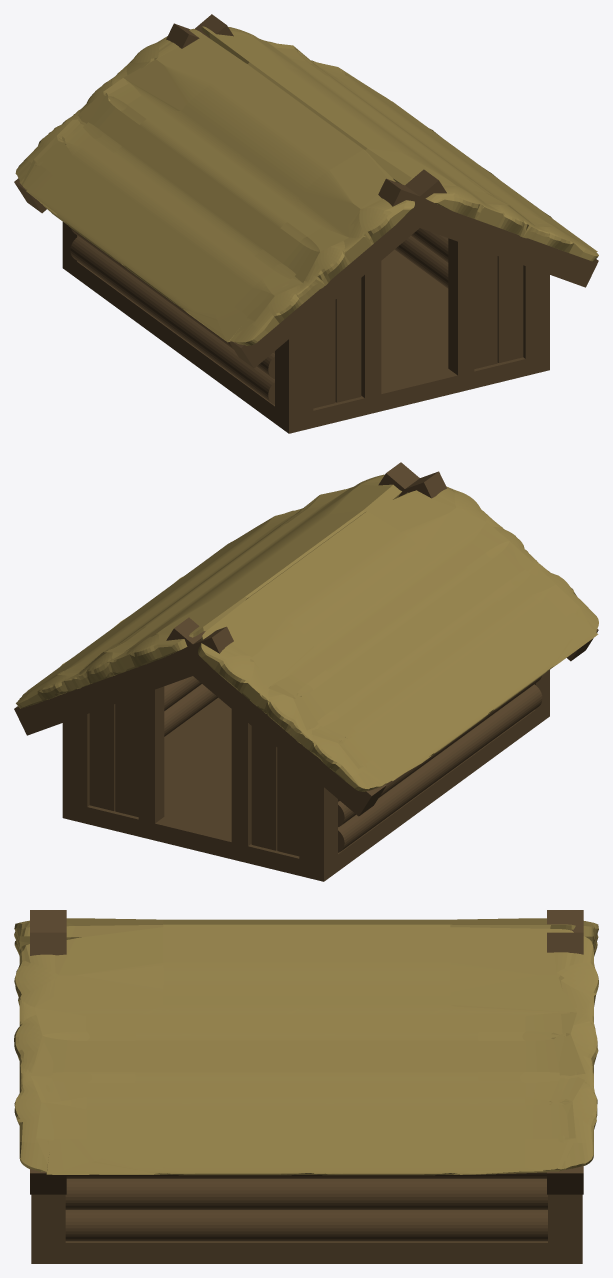
File: House.glb
3 renders of one model, top to bottom at view 1: azimuth 30°, elevation 25°; view 2: azimuth 150°, elevation 25°; view 3: azimuth 270°, elevation 25°, orthographic. The views are drawn at different scales.
Parts seen in each view (by area): view 1: Log1; view 2: Log1; view 3: Log1.
Part boxes in pixels (bbox=[...]): Log1: bbox=[14, 14, 598, 433]; Log1: bbox=[14, 462, 598, 881]; Log1: bbox=[14, 910, 598, 1263].
Bounding box in the file's own units: 22.71 × 12.73 × 25.47.
